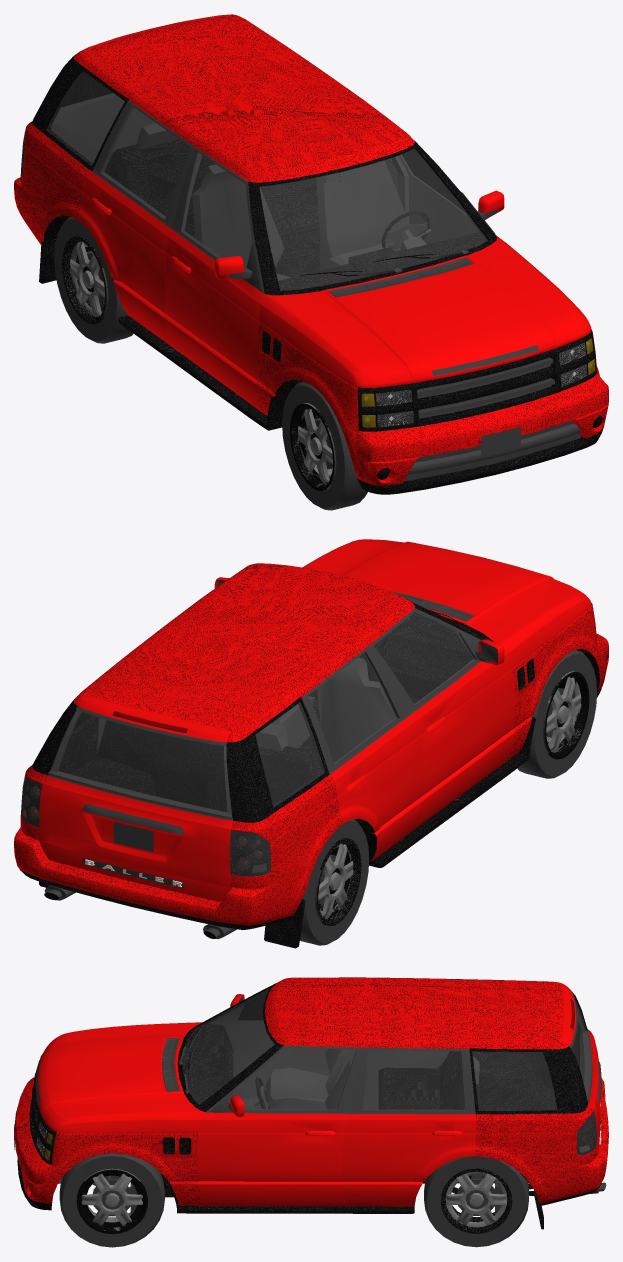
File: car.fbx
3 renders of one model, top to bottom at view 1: azimuth 30°, elevation 25°; view 2: azimuth 150°, elevation 25°; view 3: azimuth 270°, elevation 25°, orthographic. The views are drawn at different scales.
Parts seen in each view (by area): view 1: Material2, Material2.001, Material2.019, Material3.006, Material3.009, Material3, Material2.005, Material2.021, Material2.023, Material2.016, Material3.048, Material3.033 (+8 smaller); view 2: Material2, Material2.001, Material2.005, Material2.024, Material2.019, Material3.039, Material2.021, Material3.009, Material2.023, Material3.006, Material2.016, Material3.048 (+7 smaller); view 3: Material2, Material2.001, Material3.025, Material2.019, Material2.005, Material3.006, Material2.022, Material2.017, Material3.010, Material3.030, Material3.009, Material3.029 (+8 smaller).
Part boxes in pixels (left/top/right/bottom): Material2: left=14, top=14, right=608, bottom=485; Material2.001: left=14, top=15, right=608, bottom=494; Material2.019: left=259, top=237, right=591, bottom=387; Material3.006: left=21, top=71, right=487, bottom=290; Material3.009: left=105, top=123, right=484, bottom=288; Material3: left=33, top=57, right=600, bottom=494; Material2.005: left=50, top=126, right=486, bottom=290; Material2.021: left=163, top=229, right=264, bottom=411; Material2.023: left=79, top=172, right=171, bottom=344; Material2.016: left=282, top=381, right=367, bottom=510; Material3.048: left=54, top=216, right=133, bottom=343; Material3.033: left=103, top=108, right=189, bottom=217; Material2: left=14, top=563, right=608, bottom=925; Material2.001: left=14, top=563, right=608, bottom=948; Material2.005: left=58, top=613, right=472, bottom=872; Material2.024: left=39, top=696, right=232, bottom=901; Material2.019: left=302, top=539, right=591, bottom=668; Material3.039: left=50, top=710, right=231, bottom=815; Material2.021: left=409, top=639, right=515, bottom=830; Material3.009: left=58, top=615, right=470, bottom=872; Material2.023: left=330, top=715, right=425, bottom=861; Material3.006: left=21, top=702, right=324, bottom=875; Material2.016: left=517, top=649, right=597, bottom=778; Material3.048: left=300, top=819, right=369, bottom=945; Material2: left=14, top=977, right=608, bottom=1206; Material2.001: left=14, top=977, right=608, bottom=1229; Material3.025: left=197, top=1045, right=362, bottom=1206; Material2.019: left=36, top=1022, right=205, bottom=1133; Material2.005: left=184, top=1021, right=581, bottom=1152; Material3.006: left=183, top=988, right=596, bottom=1154; Material2.022: left=343, top=1114, right=475, bottom=1206; Material2.017: left=59, top=1153, right=164, bottom=1247; Material3.010: left=424, top=1156, right=528, bottom=1247; Material3.030: left=362, top=1050, right=464, bottom=1109; Material3.009: left=186, top=1025, right=579, bottom=1109; Material3.029: left=209, top=996, right=329, bottom=1108.
Size of the model in its own units: 5149 by 4215 by 11656.
